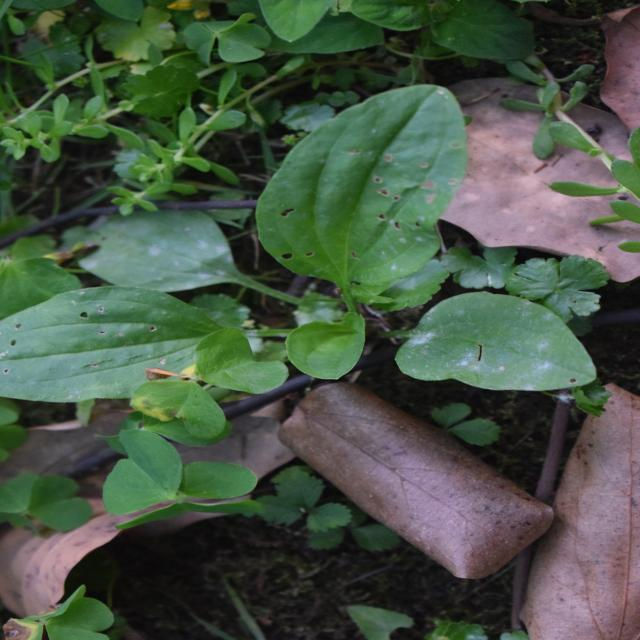plantain: (222, 0, 541, 554)
